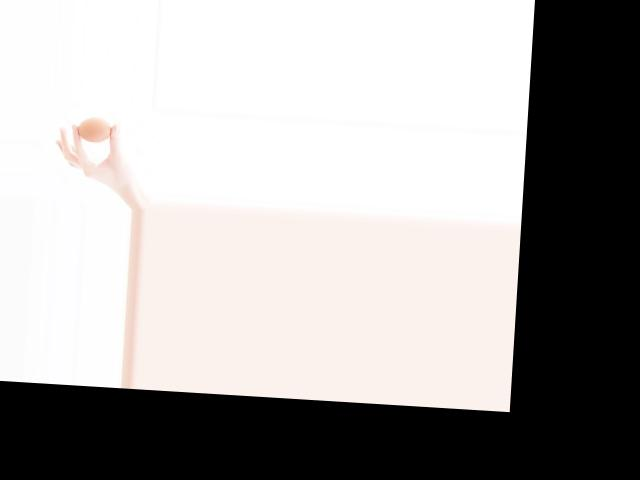egg: (76, 116, 112, 142)
